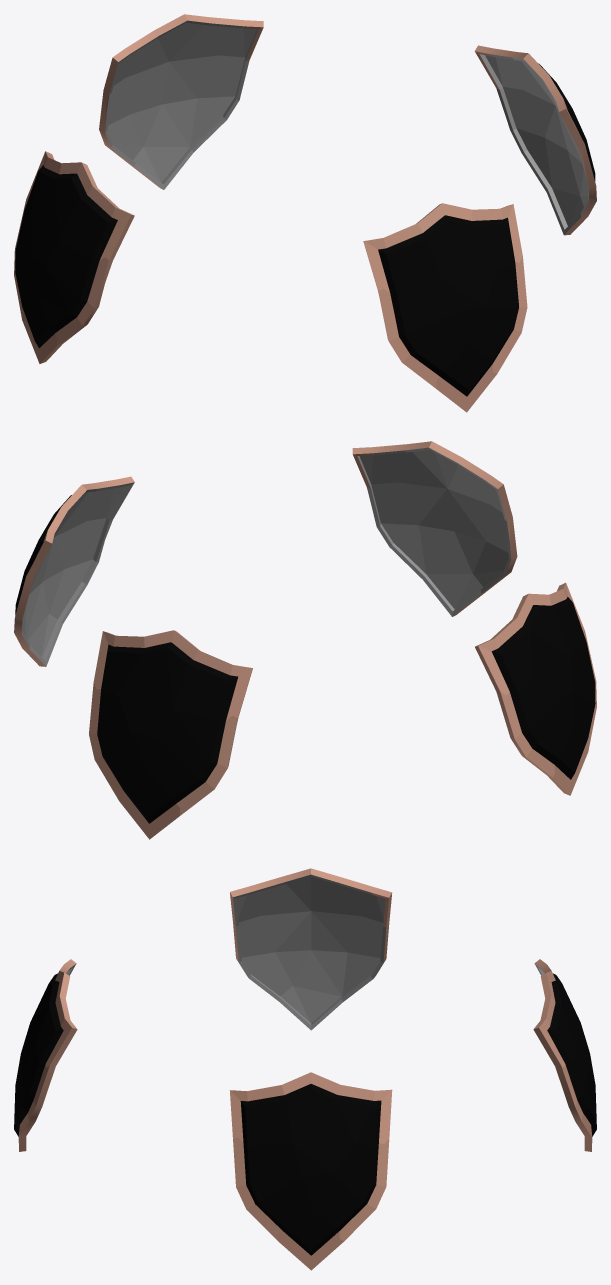
The picture shows the model from 3 angles, top to bottom: view 1: azimuth 30°, elevation 25°; view 2: azimuth 150°, elevation 25°; view 3: azimuth 270°, elevation 25°; orthographic projection. The views are drawn at different scales.
Visible parts, largest first — view 1: Object017, Object016, Object014, Object015; view 2: Object016, Object017, Object014, Object015; view 3: Object015, Object014, Object016, Object017.
Part boxes in pixels (x1=…): Object017: x1=363, y1=203, x2=527, y2=412; Object016: x1=99, y1=14, x2=263, y2=189; Object014: x1=14, y1=151, x2=134, y2=363; Object015: x1=474, y1=45, x2=596, y2=235; Object016: x1=89, y1=630, x2=252, y2=839; Object017: x1=352, y1=441, x2=517, y2=616; Object014: x1=475, y1=582, x2=596, y2=795; Object015: x1=14, y1=476, x2=134, y2=666; Object015: x1=229, y1=1072, x2=392, y2=1270; Object014: x1=230, y1=868, x2=392, y2=1030; Object016: x1=533, y1=959, x2=596, y2=1151; Object017: x1=14, y1=959, x2=77, y2=1151.
Size of the model in its own units: 113 by 38.47 by 113.
